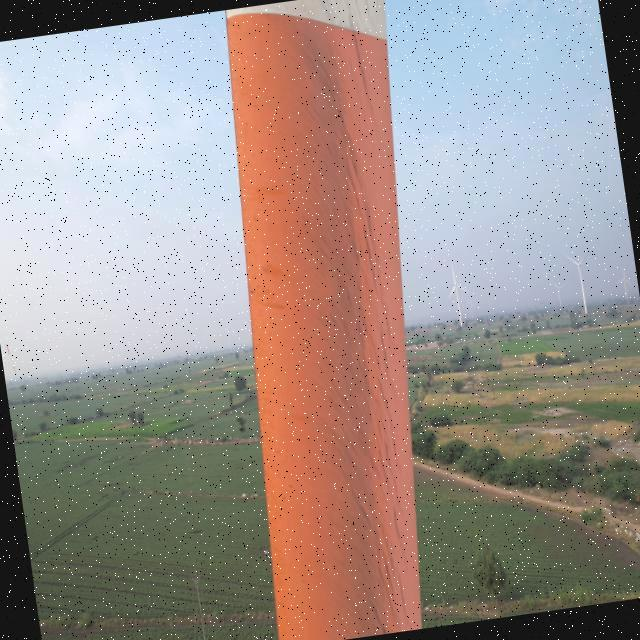Dirt: (294, 2, 413, 640)
